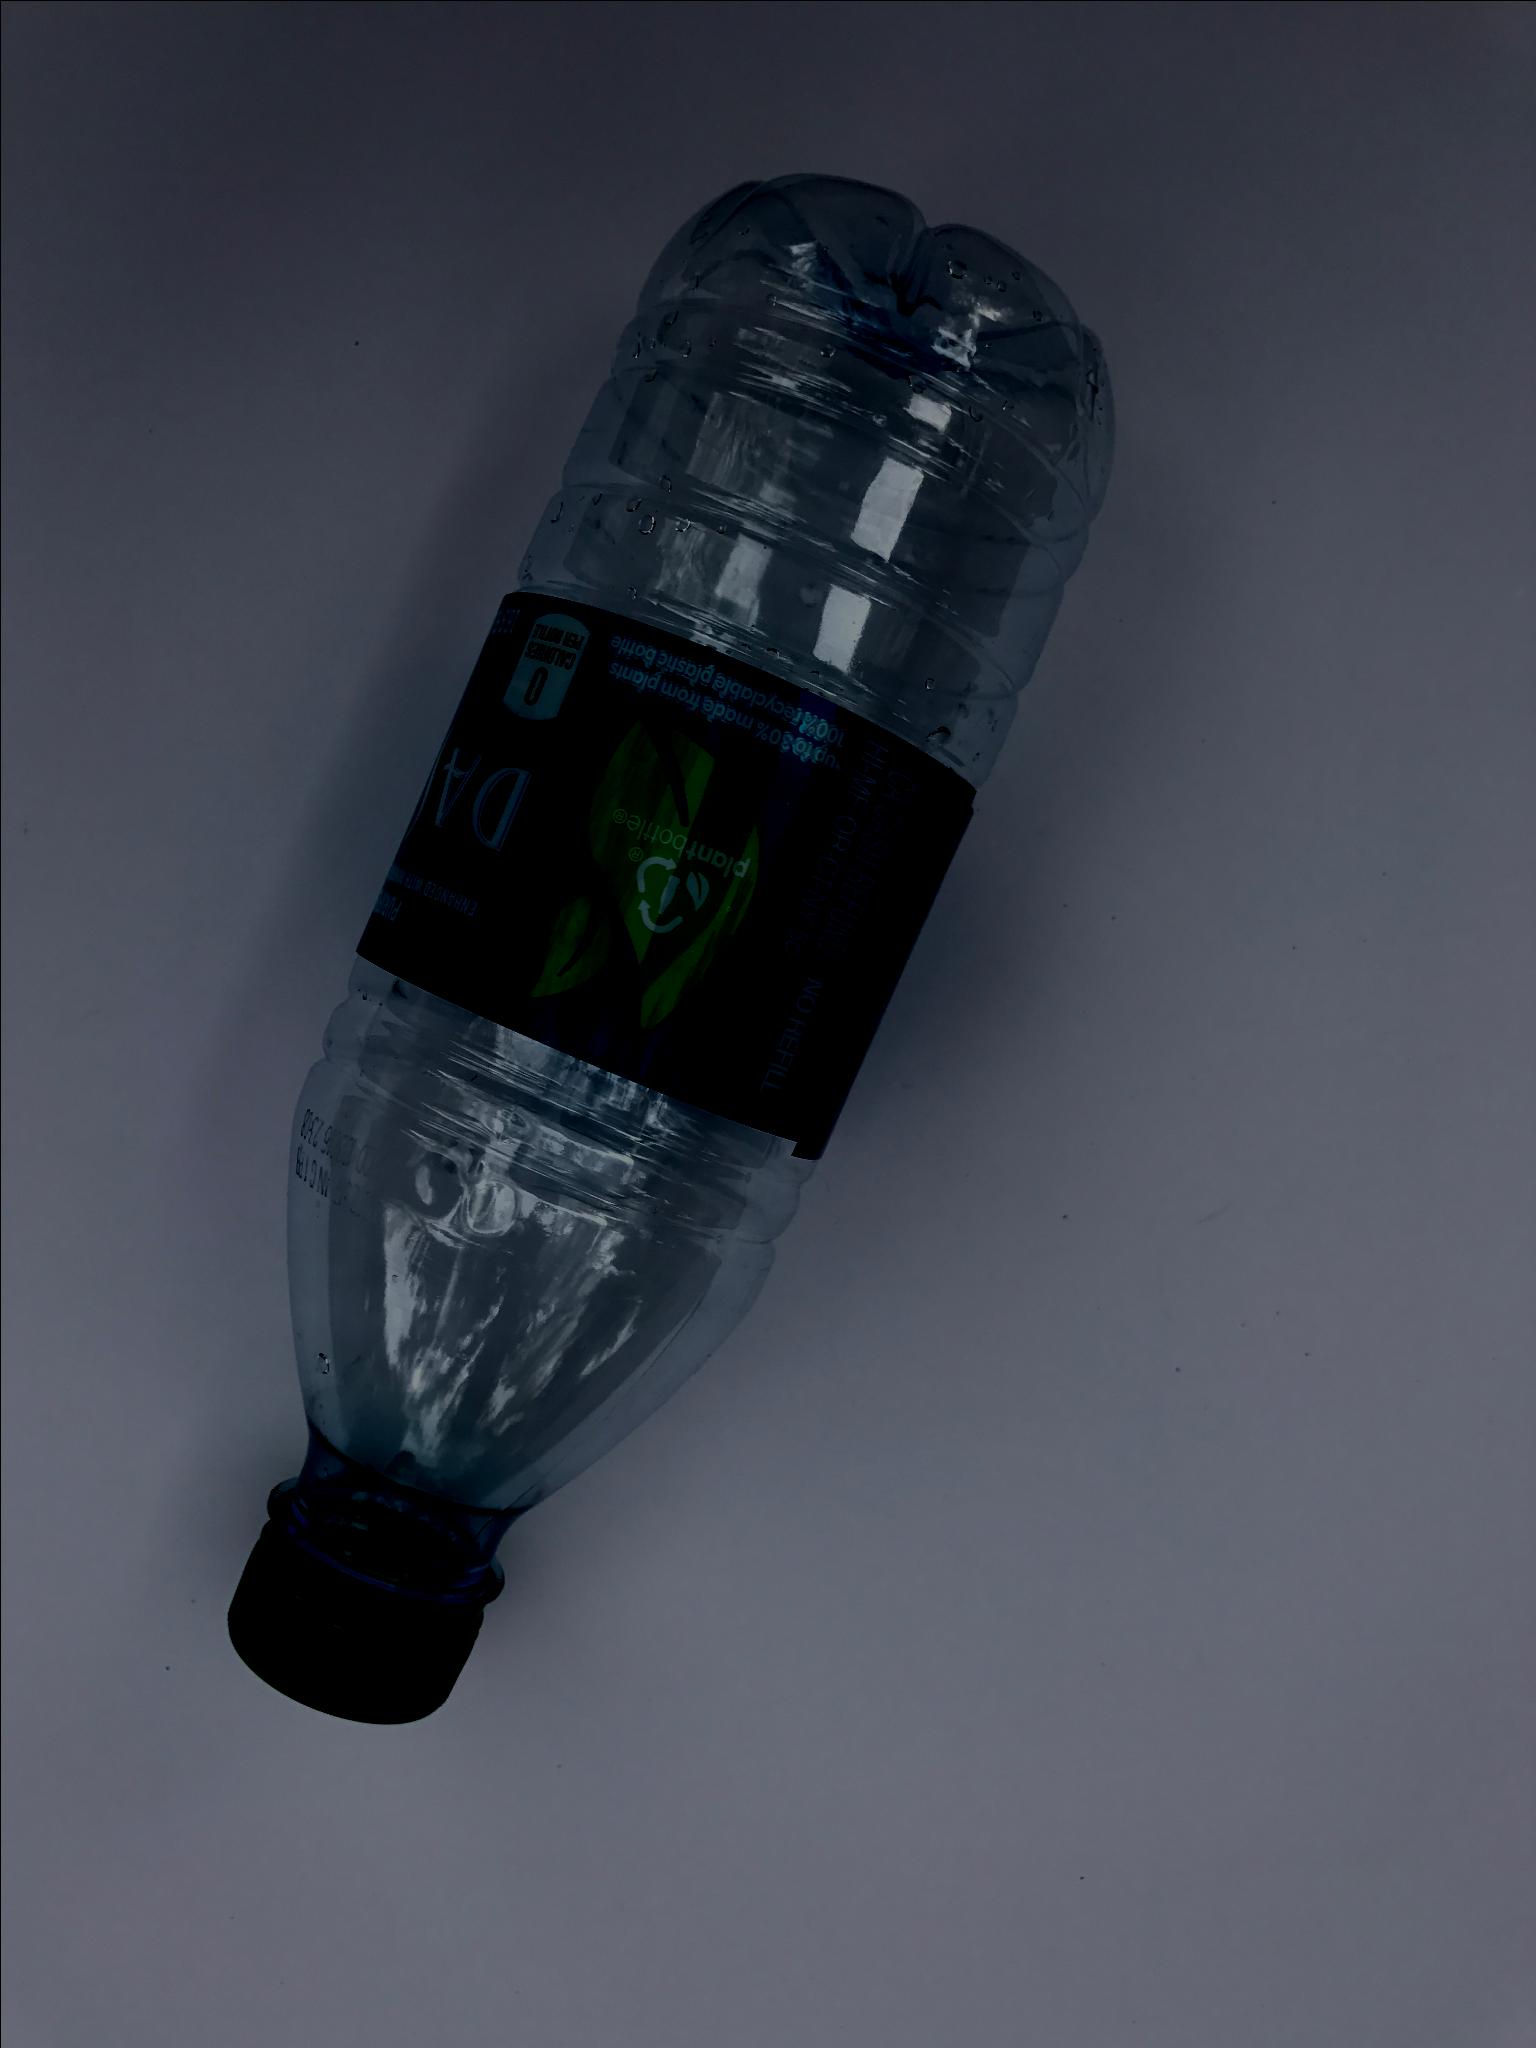Plastic: (208, 166, 1133, 1750)
